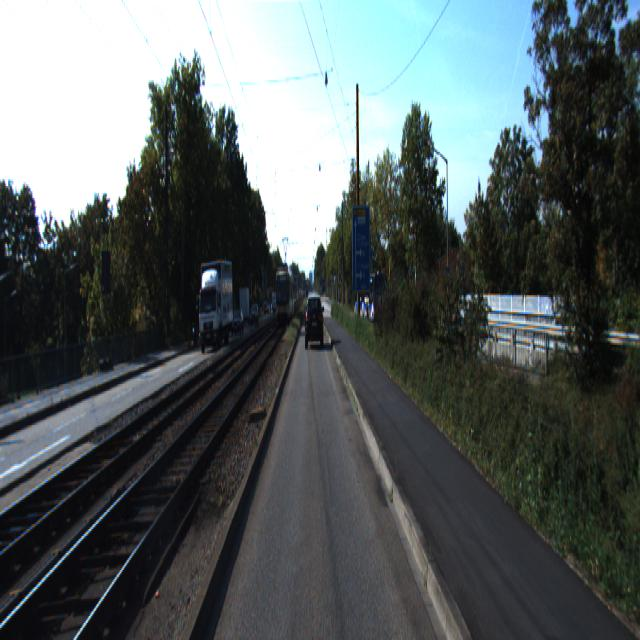Car: (196, 255, 234, 353), (354, 270, 388, 322), (306, 294, 322, 348)
